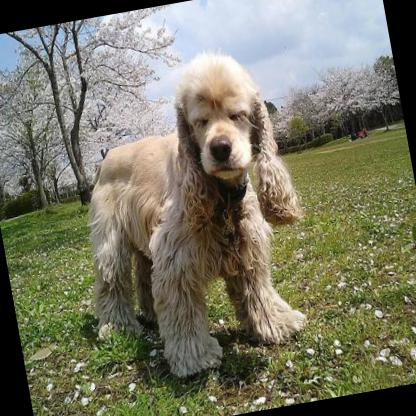cocker_spaniel: (52, 39, 326, 391)
